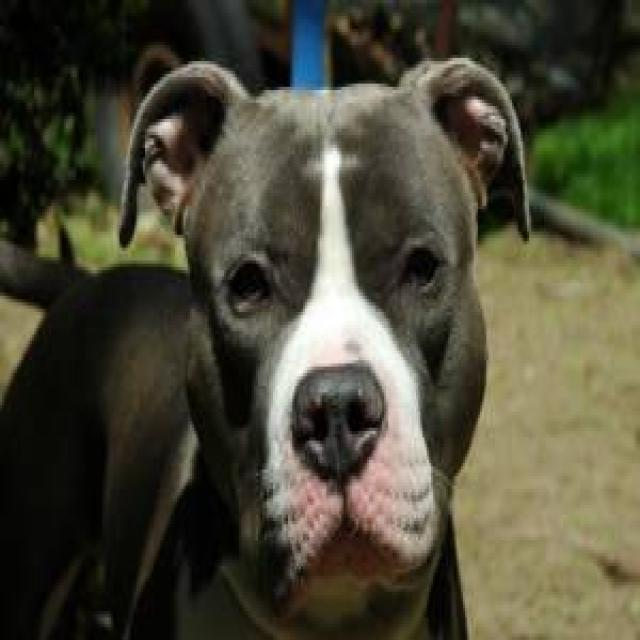dog-american_pit_bull_terrier: (2, 48, 538, 634)
